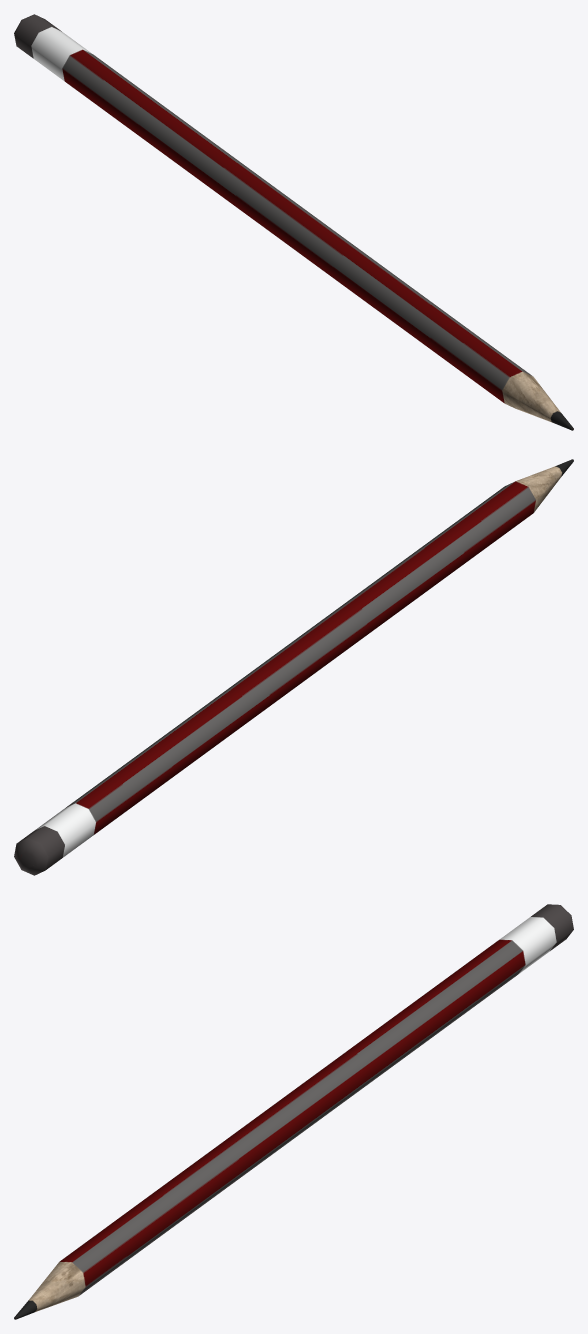
Rendered from PencilRedGreyFix.fbx.
The picture shows the model from 3 angles, top to bottom: view 1: azimuth 30°, elevation 25°; view 2: azimuth 150°, elevation 25°; view 3: azimuth 330°, elevation 25°; orthographic projection.
Visible parts, largest first — view 1: Pencil 1.001; view 2: Pencil 1.001; view 3: Pencil 1.001.
Boxes of the visible parts, x1,y1,x2,y2 form: Pencil 1.001: [14, 14, 573, 430]; Pencil 1.001: [14, 459, 573, 875]; Pencil 1.001: [14, 904, 573, 1319].
Size of the model in its own units: 0.7567 by 0.7567 by 21.12.
